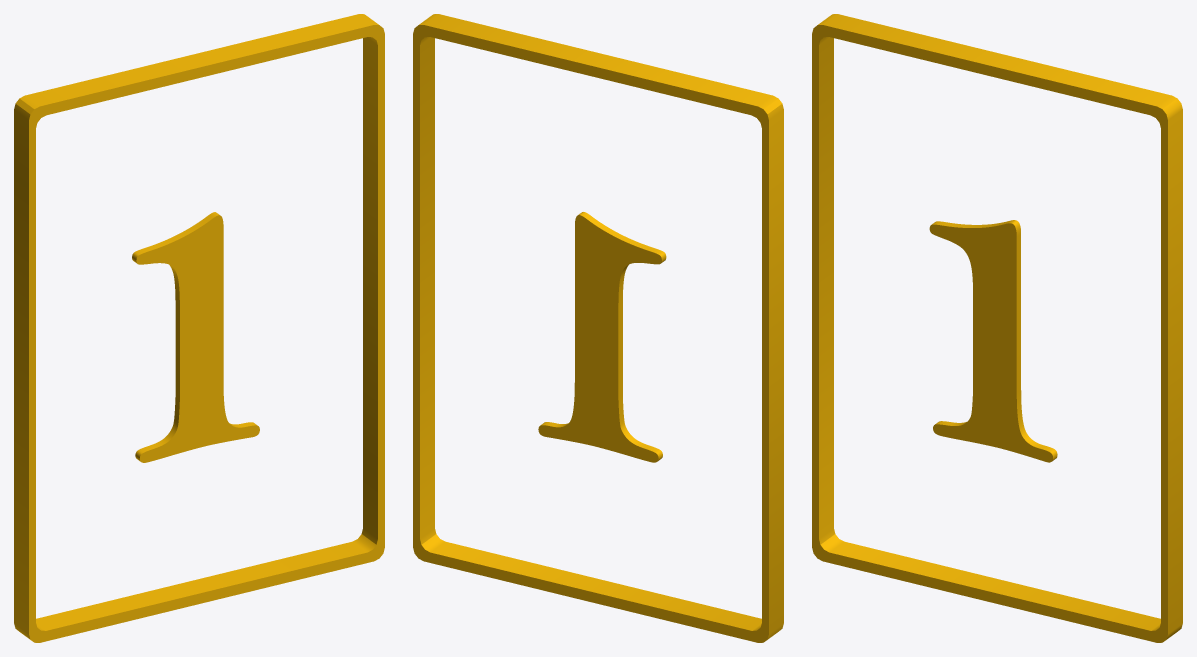
The model's file is number1.glb.
3 renders of one model, left to right at view 1: azimuth 30°, elevation 25°; view 2: azimuth 150°, elevation 25°; view 3: azimuth 330°, elevation 25°, orthographic.
Visible parts, largest first — view 1: border.003, Text; view 2: border.003, Text; view 3: border.003, Text.
Part boxes in pixels (box(x1,y1,x2,y2)): border.003: box(14, 14, 384, 642); Text: box(132, 212, 259, 462); border.003: box(413, 14, 783, 642); Text: box(538, 212, 666, 462); border.003: box(812, 14, 1182, 642); Text: box(929, 220, 1057, 462).
Size of the model in its own units: 0.9357 by 1.35 by 0.068.
